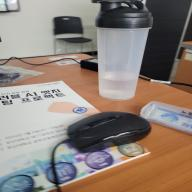Mouse: (64, 111, 153, 154)
